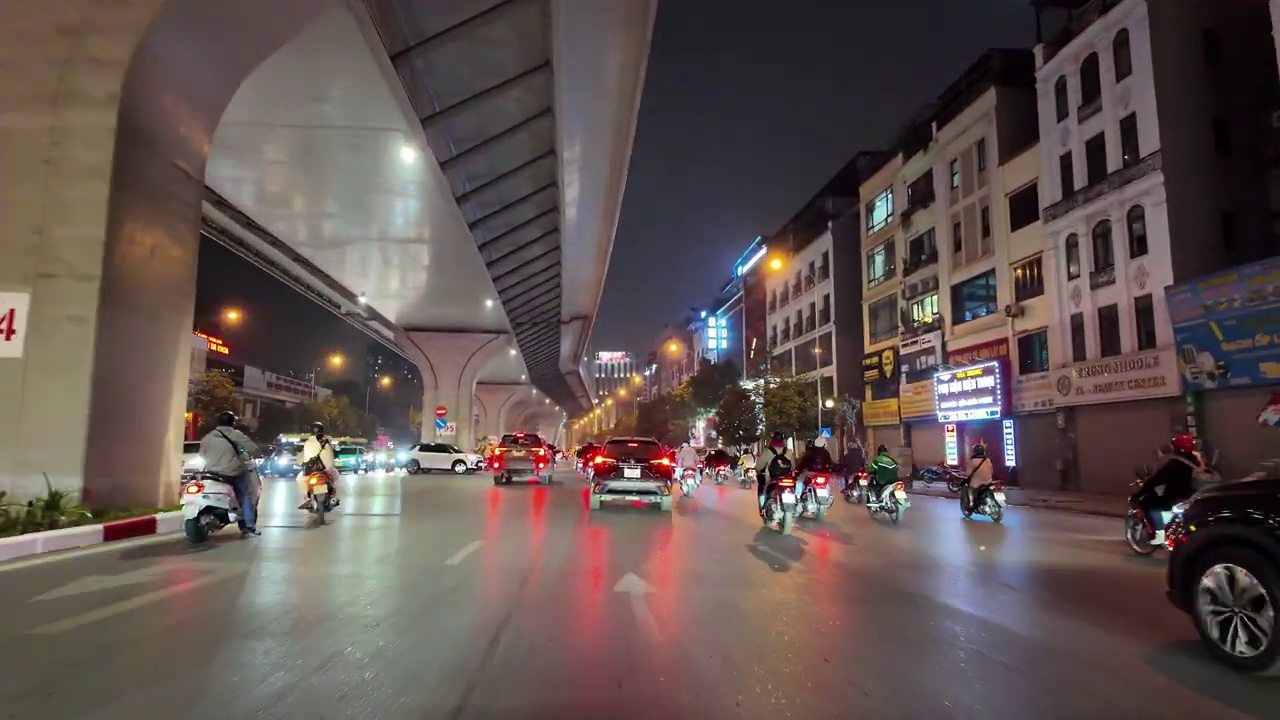acesa: (391, 141, 422, 171), (763, 250, 789, 278), (323, 349, 349, 375), (660, 336, 686, 360)
